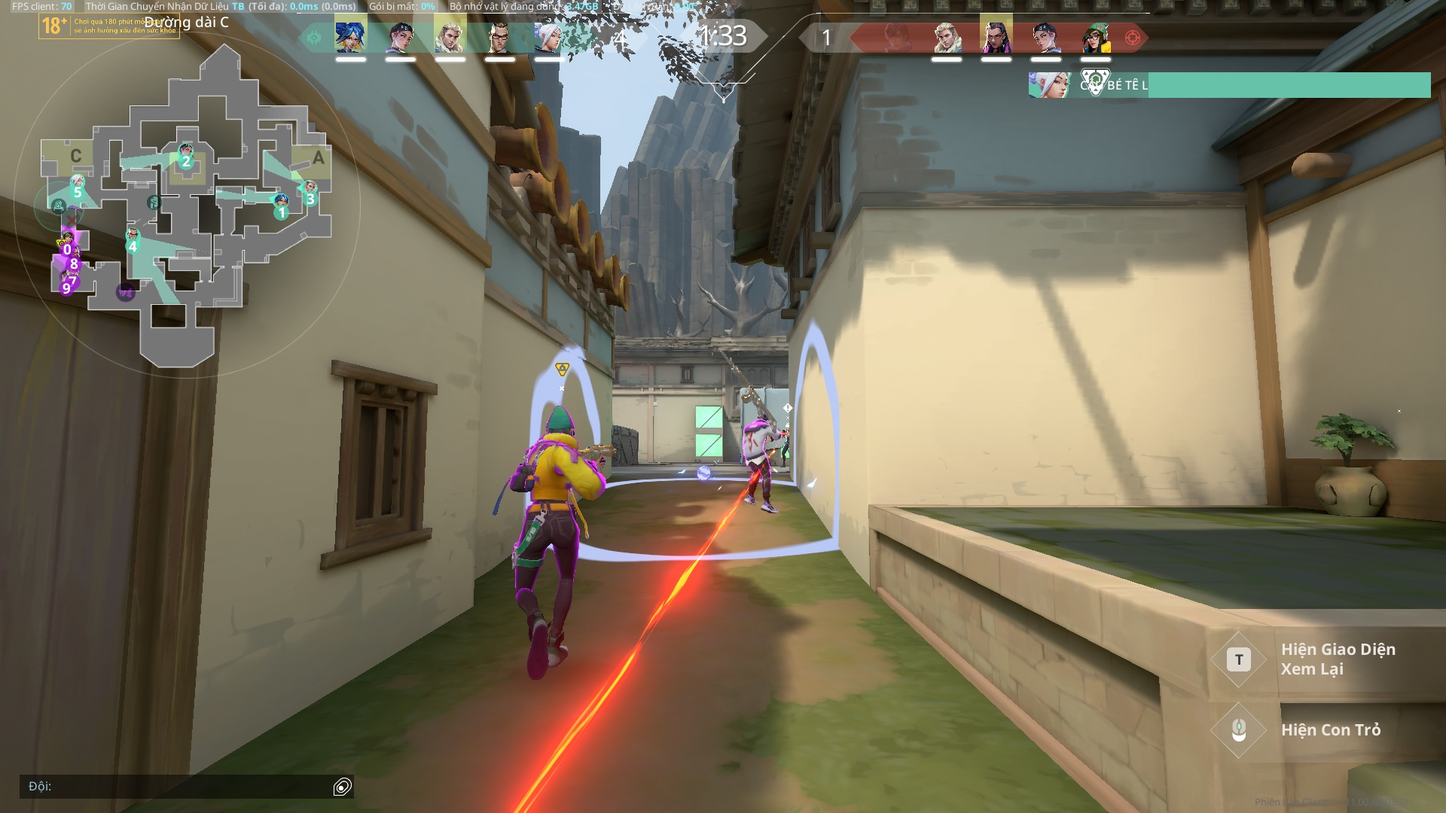body: (523, 433, 576, 495), (744, 422, 767, 455)
head: (548, 413, 574, 435), (756, 414, 770, 425)
